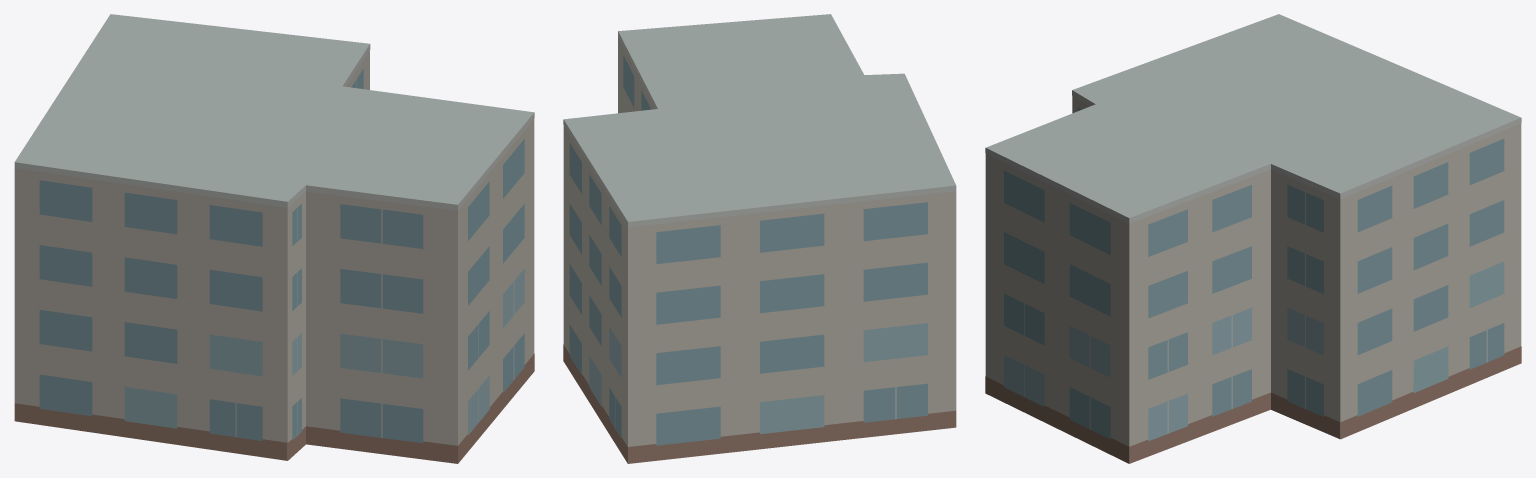
File: survey-upis-32605846.glb
3 renders of one model, left to right at view 1: azimuth 30°, elevation 25°; view 2: azimuth 150°, elevation 25°; view 3: azimuth 270°, elevation 25°, orthographic. The views are drawn at different scales.
Parts seen in each view (by area): view 1: survey-upis-32605846.tmp; view 2: survey-upis-32605846.tmp; view 3: survey-upis-32605846.tmp.
Part boxes in pixels (x1=…): survey-upis-32605846.tmp: x1=14, y1=14, x2=534, y2=463; survey-upis-32605846.tmp: x1=563, y1=14, x2=956, y2=463; survey-upis-32605846.tmp: x1=985, y1=14, x2=1521, y2=463.
Bounding box in the file's own units: 18.71 × 10.5 × 20.76.
